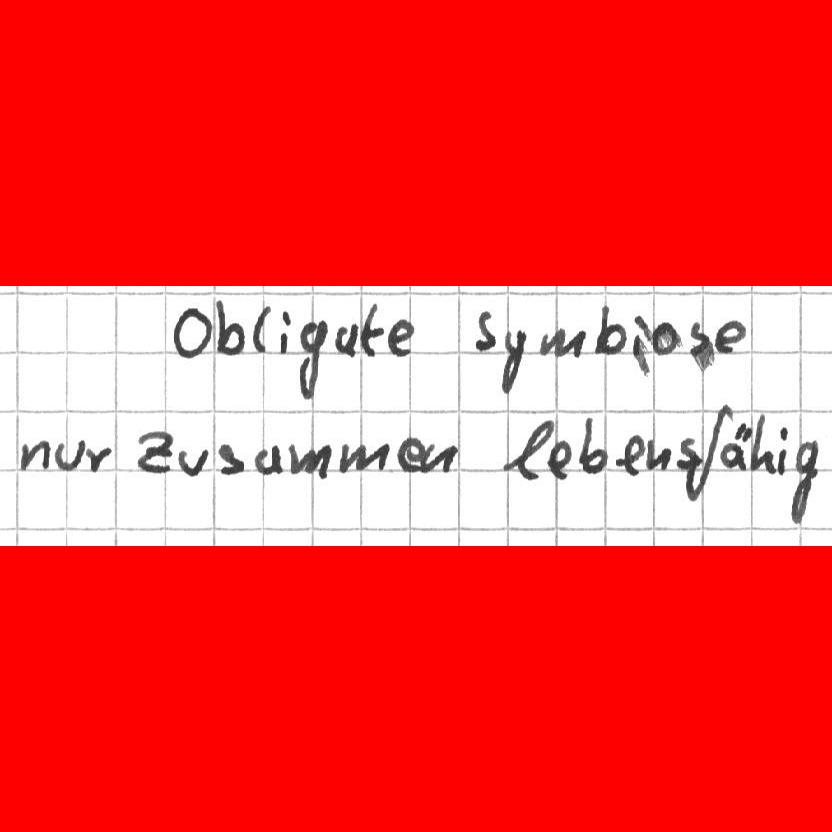Char: (692, 407, 724, 504), (787, 438, 821, 527), (503, 420, 553, 480), (296, 317, 328, 399), (497, 326, 528, 394), (173, 303, 210, 358), (337, 439, 390, 477), (213, 298, 246, 358), (593, 300, 626, 357), (578, 415, 608, 476), (135, 430, 173, 476), (539, 325, 585, 360), (289, 439, 328, 479), (686, 319, 714, 368), (751, 414, 774, 473), (725, 419, 751, 469), (360, 299, 382, 358), (386, 315, 416, 358), (175, 444, 211, 479), (714, 317, 746, 356), (631, 317, 652, 374), (546, 437, 572, 481), (618, 431, 643, 476), (423, 440, 457, 473), (472, 307, 497, 351), (53, 437, 84, 472), (18, 437, 49, 472), (652, 320, 680, 356), (397, 436, 423, 474), (216, 440, 244, 475), (251, 304, 271, 353), (253, 444, 283, 476), (334, 319, 357, 358), (85, 442, 112, 475), (645, 440, 671, 474), (678, 435, 700, 469), (278, 306, 292, 353), (777, 425, 789, 476)
